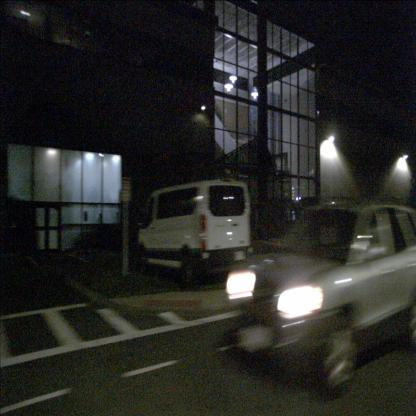vehicle-car: (228, 198, 416, 395), (135, 179, 254, 290)
